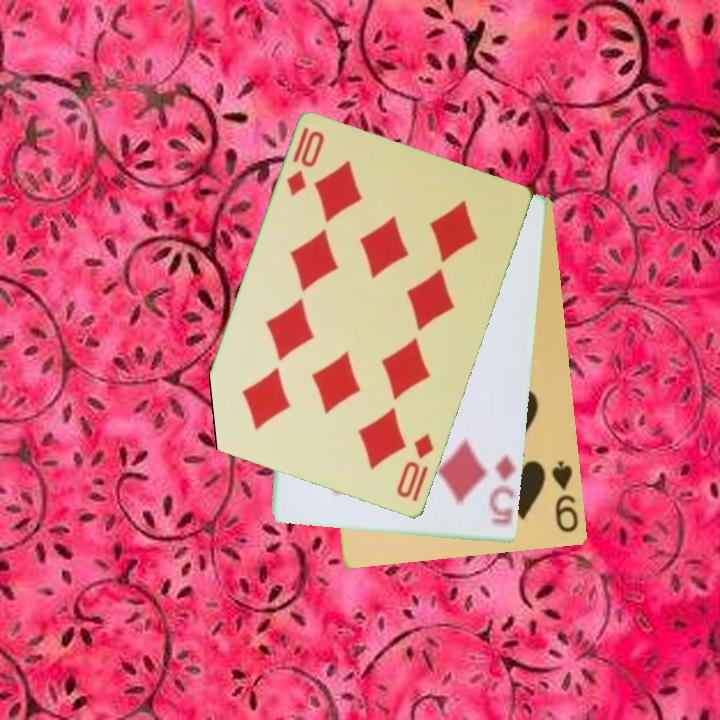10d: (283, 124, 328, 200), (393, 430, 438, 502)
5d: (485, 452, 519, 527)
9s: (548, 457, 582, 536)
